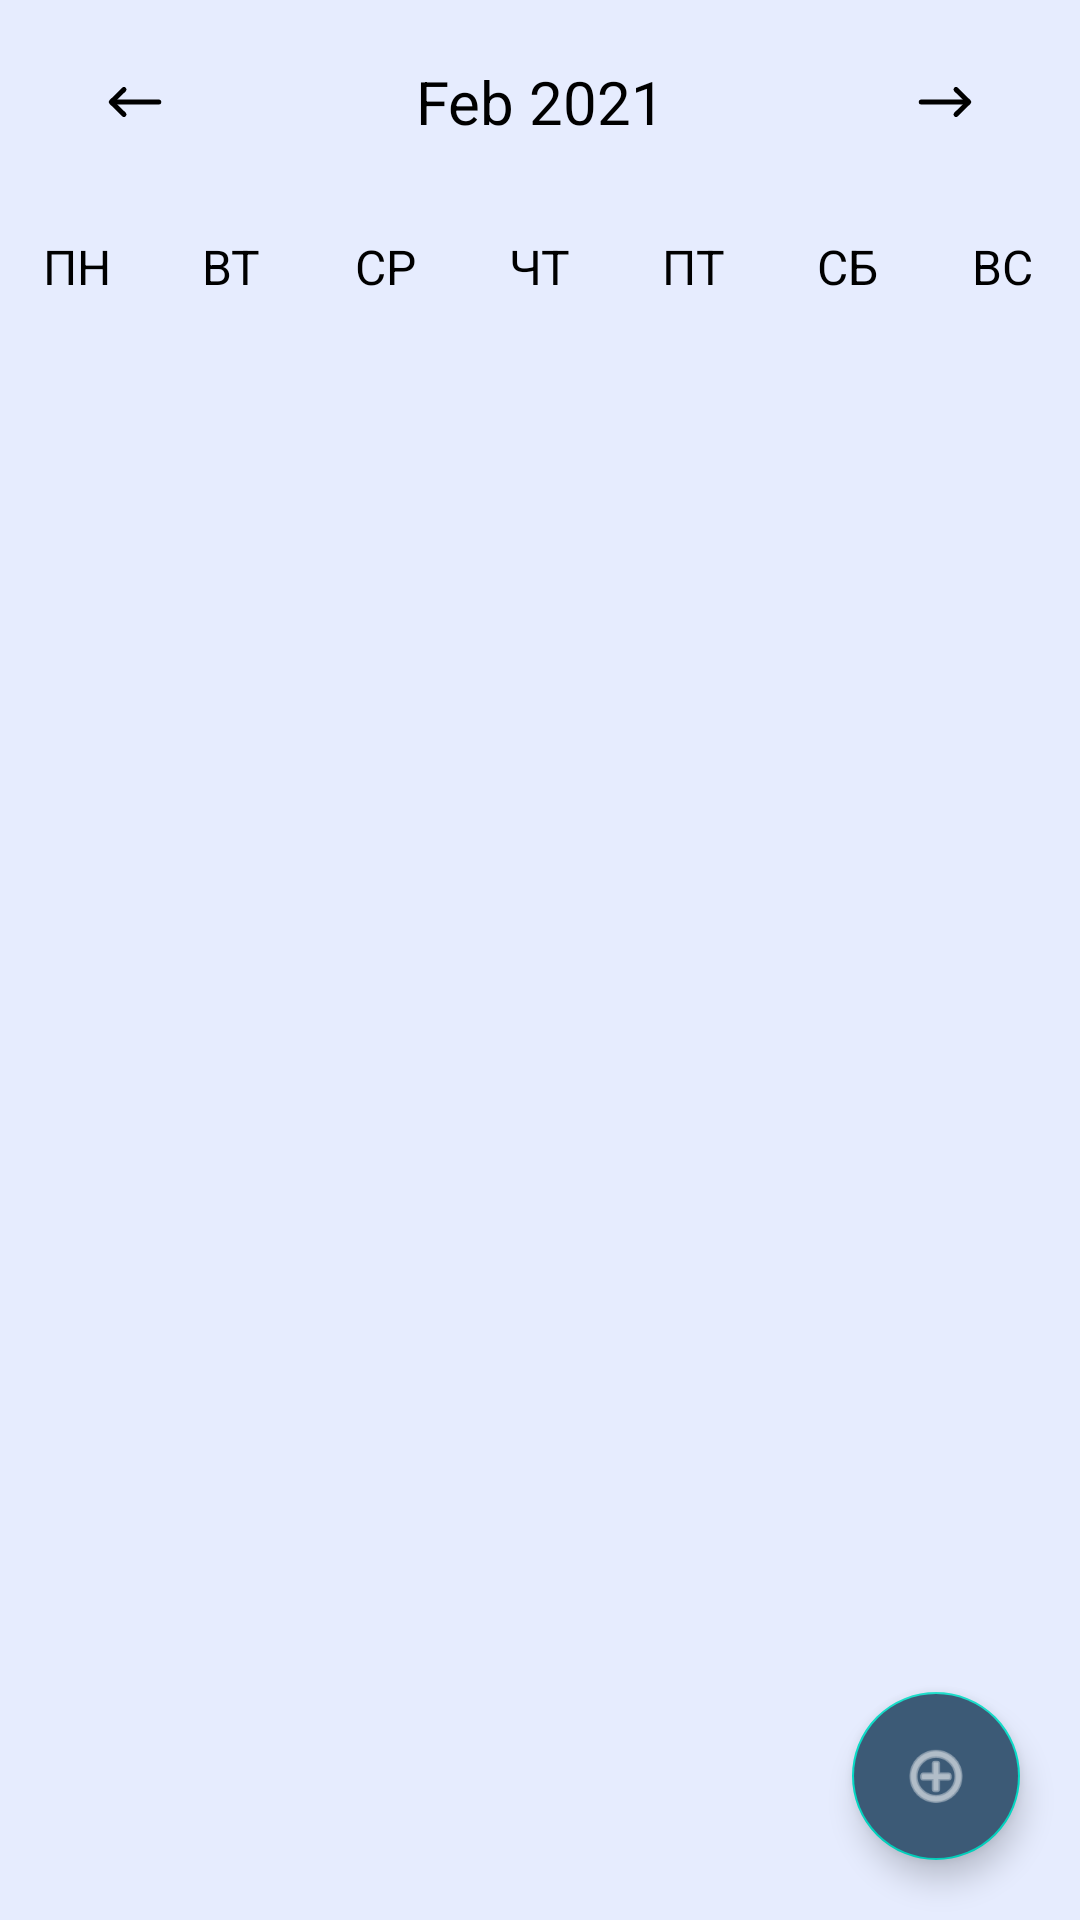

Named icons in this screenshot (1080×1920) and their centers, (x=x, y=y):
add: (x=936, y=1776)
Next month button: (x=945, y=102)
Previous month button: (x=135, y=102)
